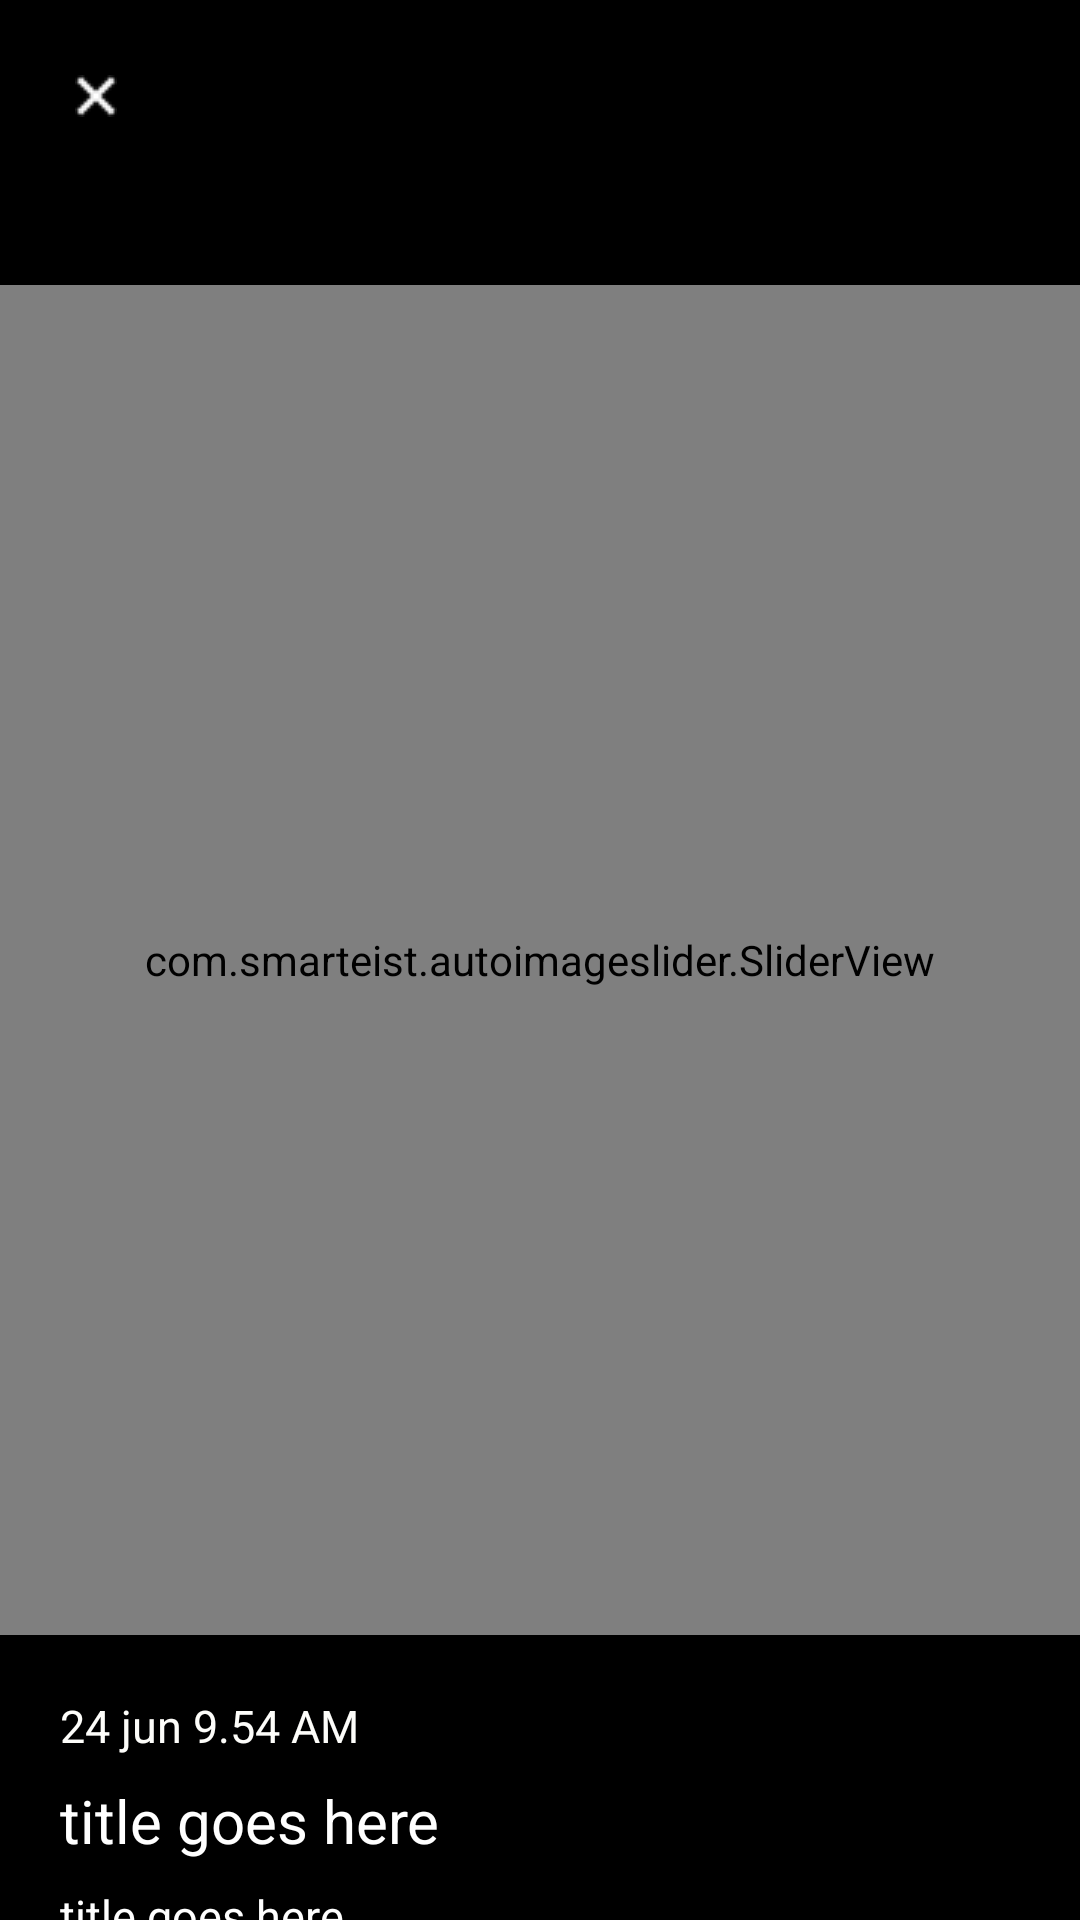

Screen size 1080×1920. Icon name, then its box in pixels as (x1, y1, x2, y2):
cross: (75, 75, 117, 117)
